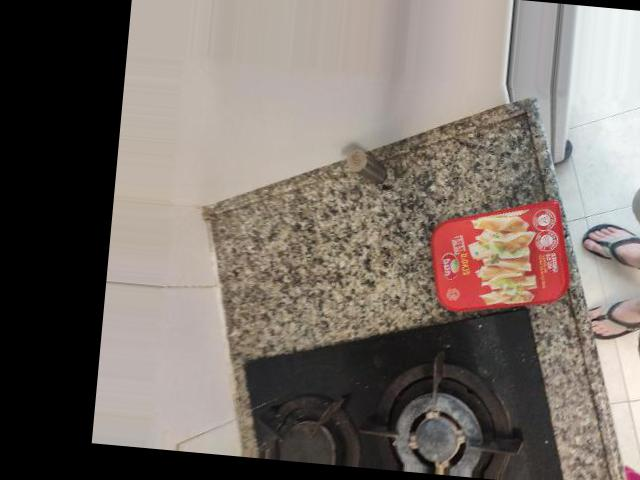cheese: (422, 180, 586, 327)
